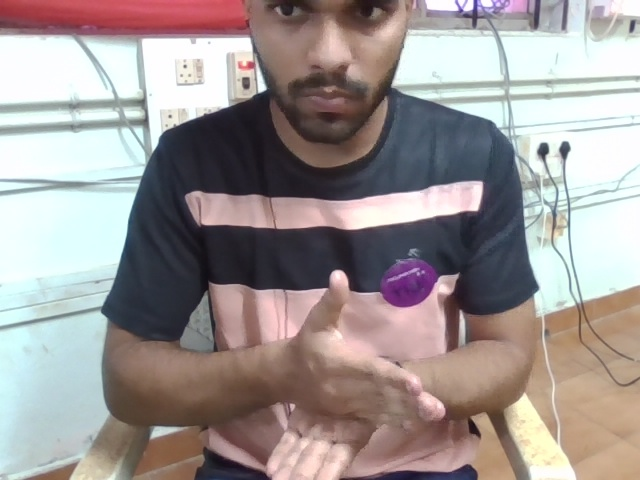stop: (232, 253, 455, 480)
